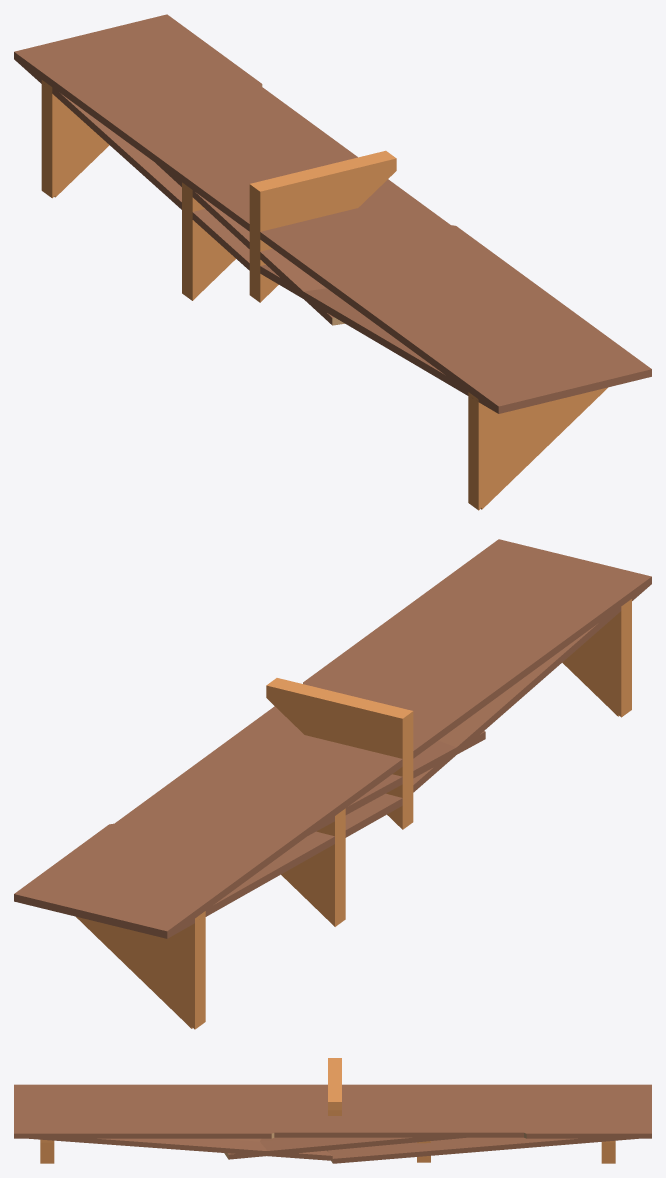
Rendered from WoodenShelf1.fbx.
3 views of the same model, one above another, from view 1: azimuth 30°, elevation 25°; view 2: azimuth 150°, elevation 25°; view 3: azimuth 270°, elevation 25° (orthographic). The views are drawn at different scales.
Visible parts, largest first — view 1: WoodenShelf1.3, WoodenShelf1.2, WoodenShelf1.1, WoodenShelf1.4, WoodenShelf1.5, WoodenShelf1.6; view 2: WoodenShelf1.3, WoodenShelf1.2, WoodenShelf1.4, WoodenShelf1.1, WoodenShelf1.5, WoodenShelf1.6; view 3: WoodenShelf1.3, WoodenShelf1.2, WoodenShelf1.1, WoodenShelf1.4, WoodenShelf1.6, WoodenShelf1.5.
Boxes of the visible parts, left/top/right/bottom form: WoodenShelf1.3: left=17, top=14, right=651, bottom=509; WoodenShelf1.2: left=14, top=15, right=648, bottom=413; WoodenShelf1.1: left=14, top=15, right=536, bottom=411; WoodenShelf1.4: left=14, top=52, right=648, bottom=510; WoodenShelf1.5: left=249, top=150, right=396, bottom=302; WoodenShelf1.6: left=156, top=159, right=344, bottom=325; WoodenShelf1.3: left=14, top=539, right=648, bottom=1028; WoodenShelf1.2: left=17, top=540, right=651, bottom=938; WoodenShelf1.4: left=17, top=577, right=651, bottom=1029; WoodenShelf1.1: left=55, top=540, right=651, bottom=934; WoodenShelf1.5: left=266, top=678, right=413, bottom=829; WoodenShelf1.6: left=281, top=731, right=485, bottom=926; WoodenShelf1.3: left=14, top=1085, right=651, bottom=1163; WoodenShelf1.2: left=14, top=1084, right=651, bottom=1137; WoodenShelf1.1: left=14, top=1084, right=651, bottom=1137; WoodenShelf1.4: left=29, top=1137, right=638, bottom=1163; WoodenShelf1.6: left=224, top=1133, right=467, bottom=1162; WoodenShelf1.5: left=328, top=1058, right=341, bottom=1115.
Size of the model in its own units: 48.48 by 48.04 by 266.
